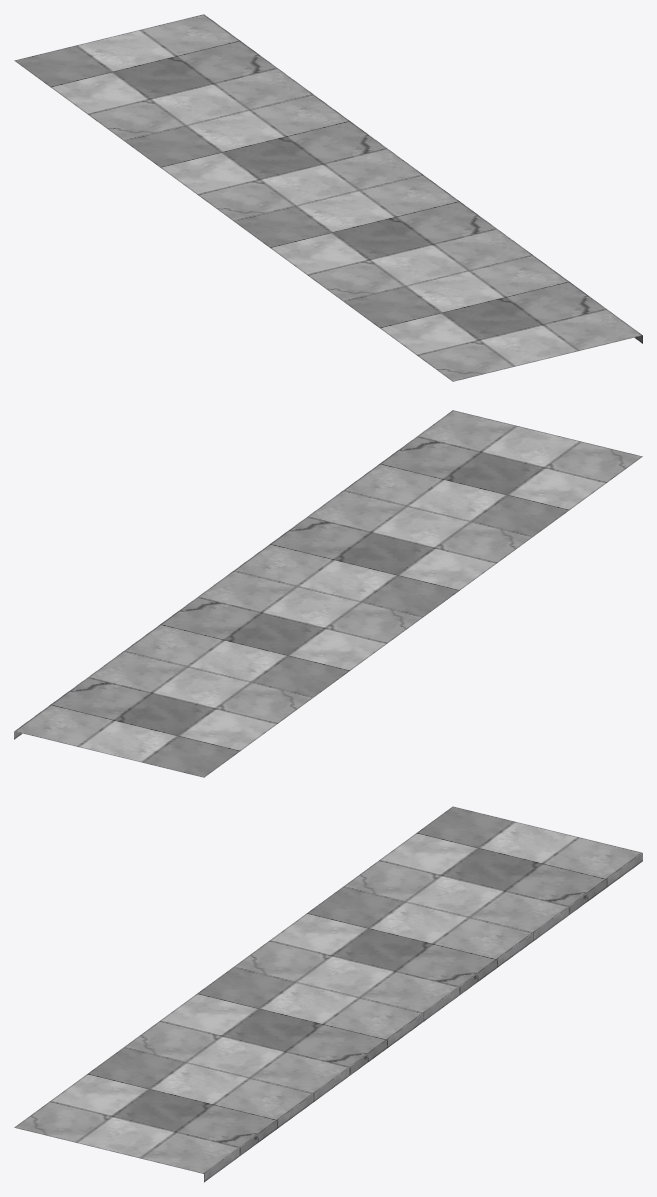
Rendered from Block.fbx.
3 renders of one model, top to bottom at view 1: azimuth 30°, elevation 25°; view 2: azimuth 150°, elevation 25°; view 3: azimuth 330°, elevation 25°, orthographic.
Visible parts, largest first — view 1: Block; view 2: Block; view 3: Block.
Part boxes in pixels (left/top/right/bottom): Block: left=14, top=14, right=642, bottom=381; Block: left=14, top=410, right=642, bottom=777; Block: left=14, top=806, right=642, bottom=1182.
Size of the model in its own units: 600 by 25.83 by 2400.
